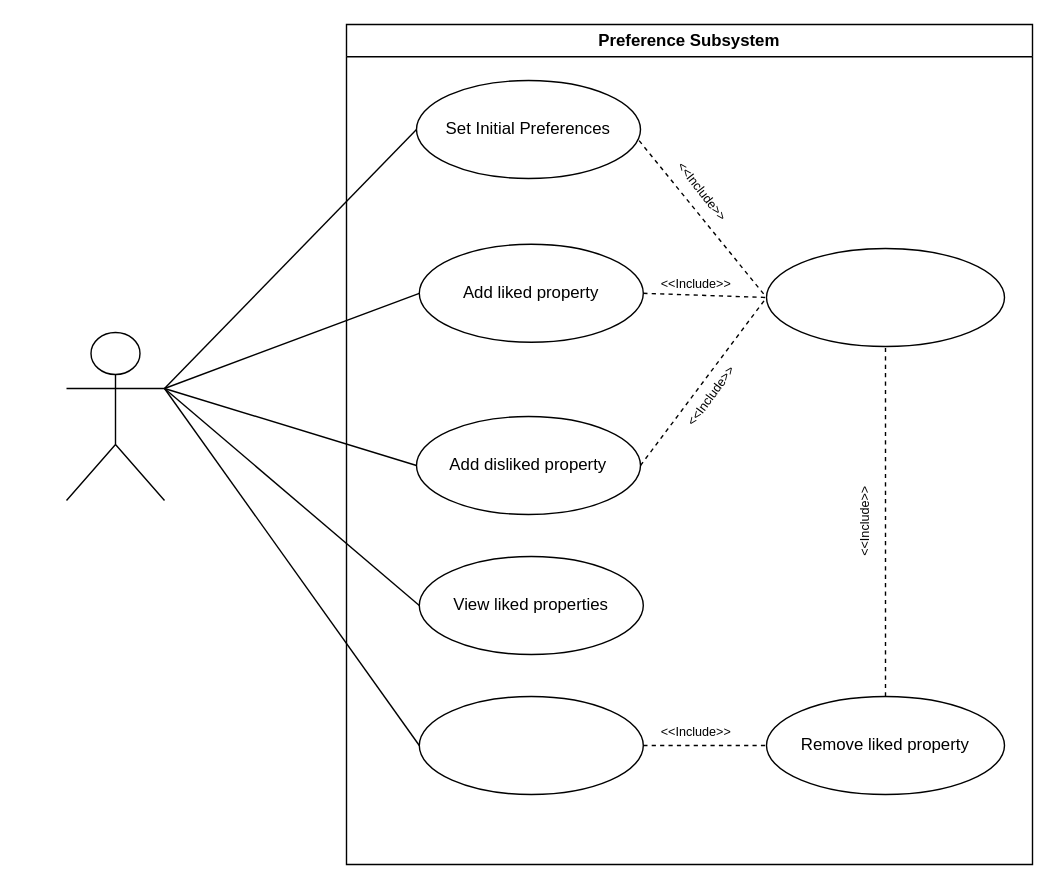
Some shapes in this 1057 by 889 pixel diagram are drawn without their labels. Here are the shapes that lost their labels. From the top down, the box of each, then its label:
(765, 247, 1004, 346): Update Preference
(65, 331, 164, 500): Potential Property Buyer
(418, 695, 643, 794): Manage liked properties
